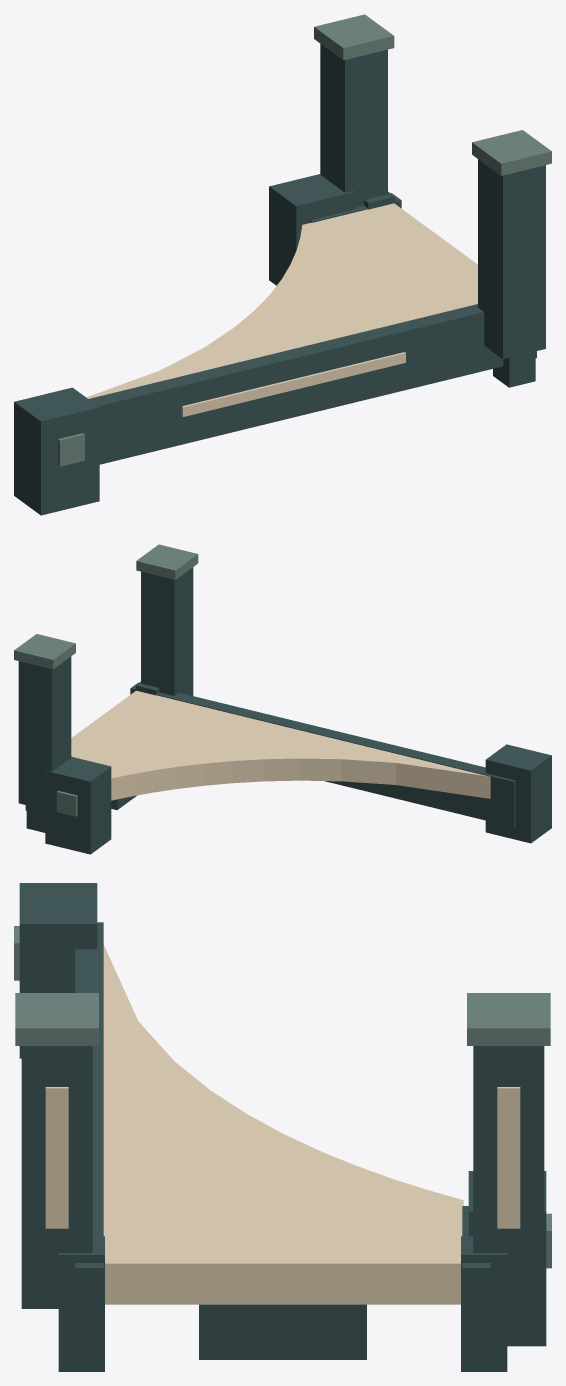
File: Pier_Angled_50_Switch_lab2.glb
3 views of the same model, one above another, from view 1: azimuth 30°, elevation 25°; view 2: azimuth 150°, elevation 25°; view 3: azimuth 270°, elevation 25° (orthographic). The views are drawn at different scales.
Parts seen in each view (by area): view 1: Pier_Angled_50_Switch; view 2: Pier_Angled_50_Switch; view 3: Pier_Angled_50_Switch.
Part boxes in pixels (bbox=[...]): Pier_Angled_50_Switch: bbox=[14, 14, 551, 515]; Pier_Angled_50_Switch: bbox=[14, 544, 551, 854]; Pier_Angled_50_Switch: bbox=[14, 883, 551, 1371].
Size of the model in its own units: 6.6 by 2.95 by 4.17.
